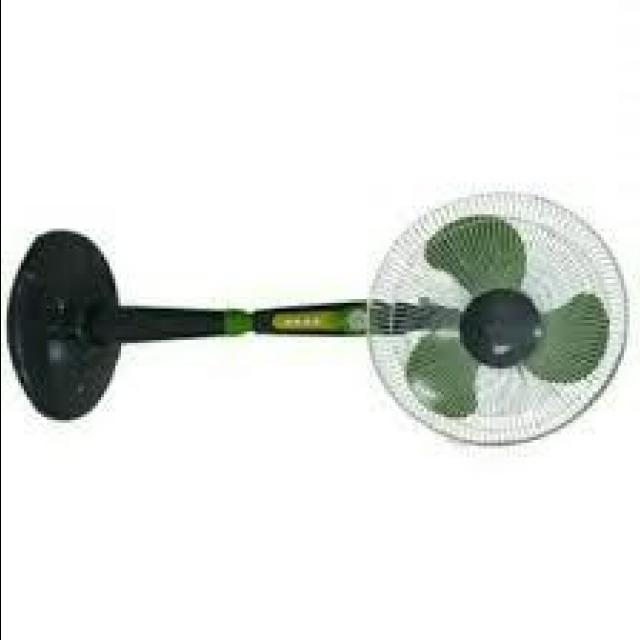fan: (4, 190, 628, 438)
